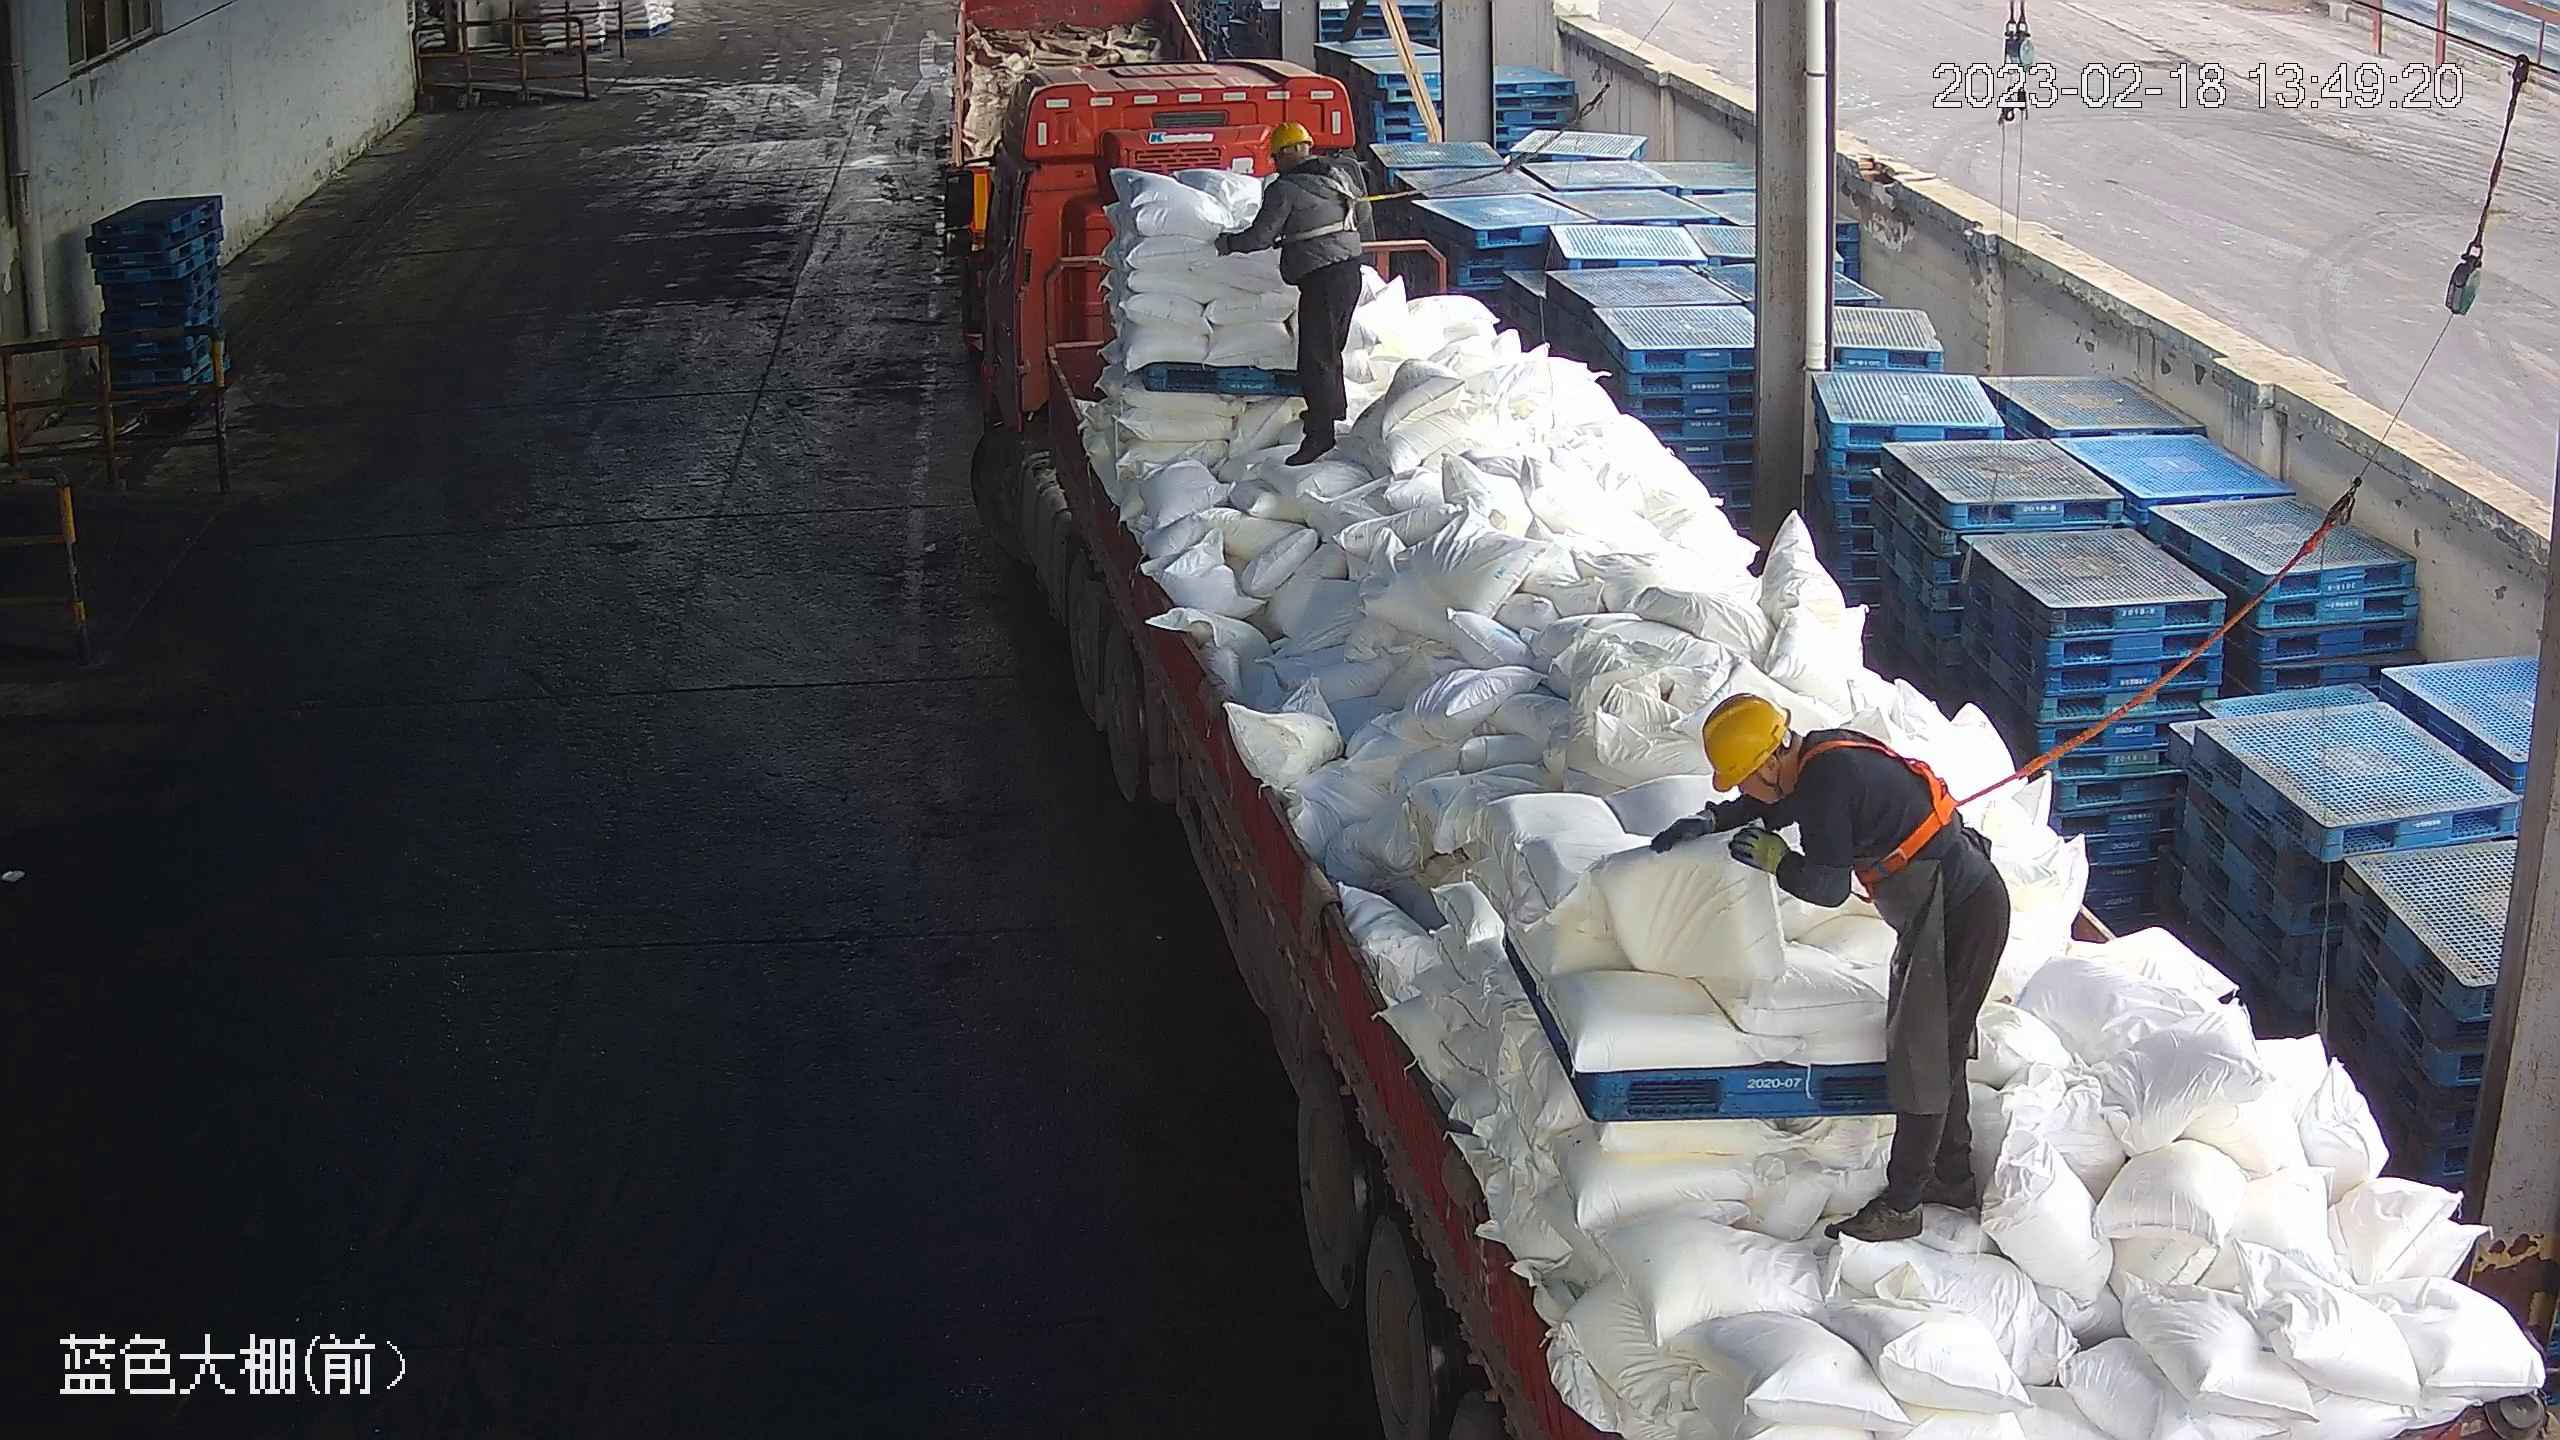belt: (1795, 716, 1977, 879), (1292, 157, 1374, 242)
head: (1695, 692, 1899, 867), (1257, 121, 1356, 212)
helmet: (1700, 692, 1791, 792), (1265, 119, 1312, 153)
people: (1687, 688, 2013, 1250), (1208, 117, 1370, 465)
truck: (951, 56, 2559, 1440)
